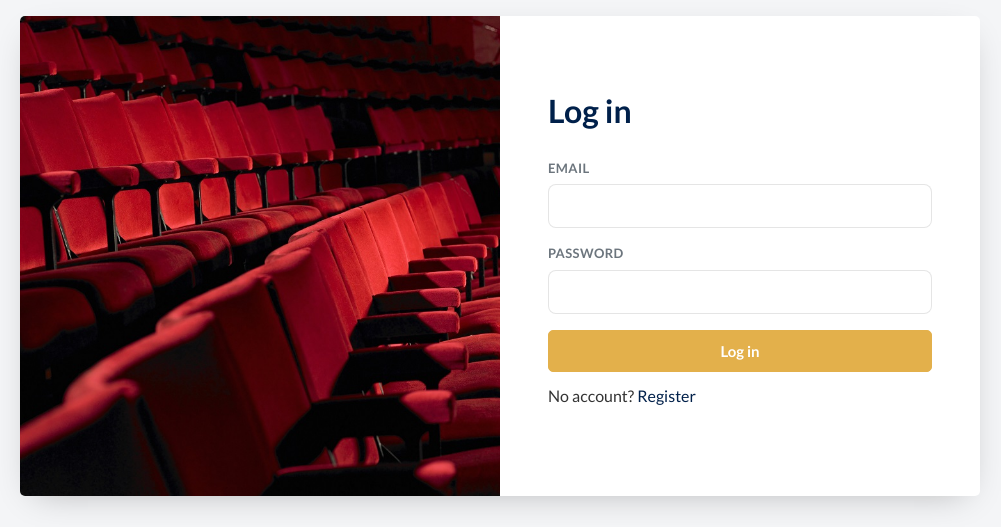
Test case: LoginPage › shows an error message on incorrect credentials
In the field labelled "Email": (740,206) [548,184,932,228], type "user@example.com"
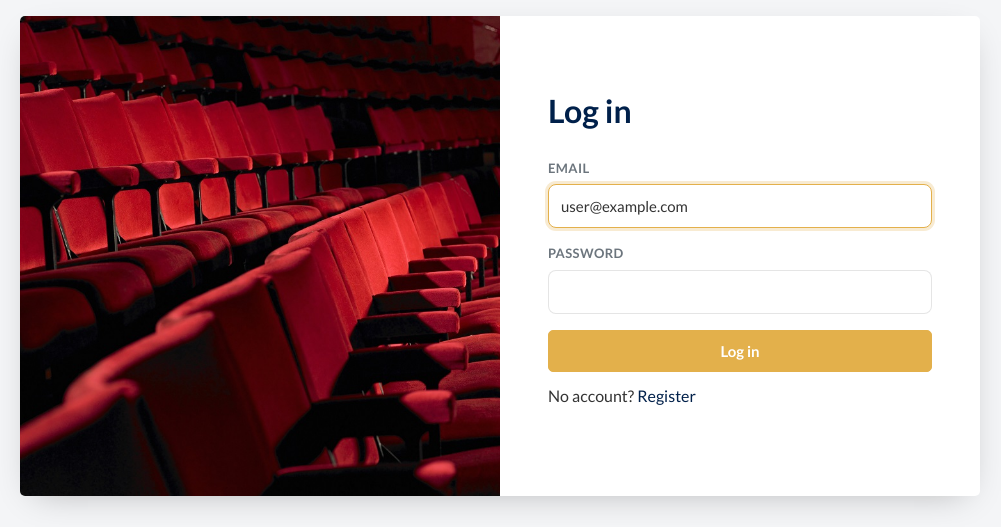
In the password field labelled "Password": (740,292) [548,270,932,314], type "wrongpassword"
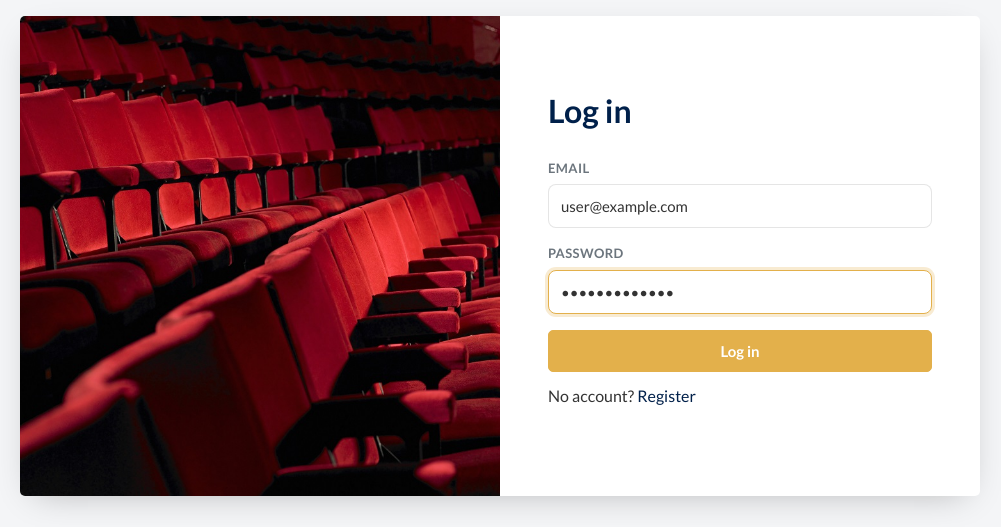
Click the button "Log in": (740,351) [548,330,932,372]
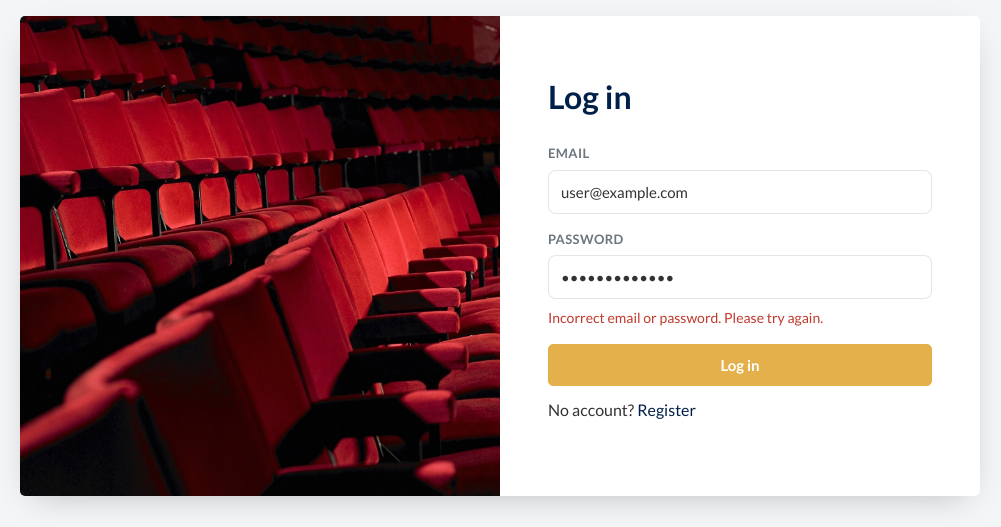
Result: the text "Incorrect email or password. Please try again." is shown at [548,309,823,326]
